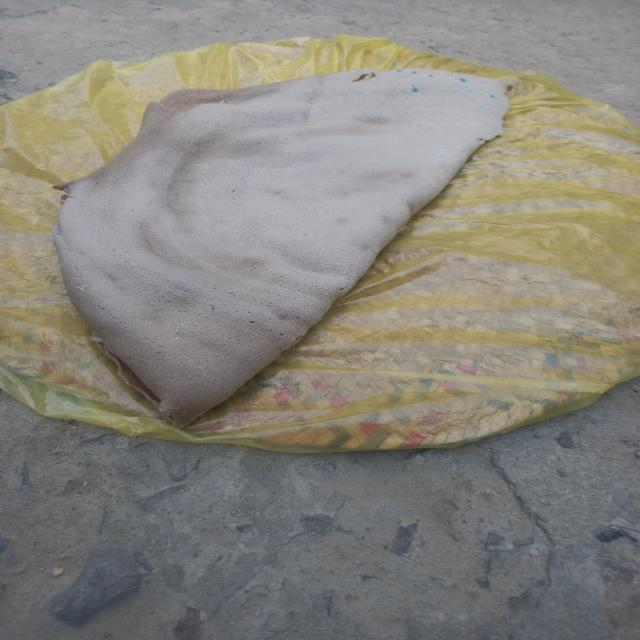injera_mold: (280, 135, 292, 142), (77, 284, 85, 292), (411, 87, 420, 93), (459, 78, 468, 83), (489, 94, 496, 99), (302, 232, 310, 236), (82, 276, 88, 280), (411, 71, 418, 74), (180, 323, 185, 327), (449, 71, 455, 74), (395, 70, 403, 72), (428, 75, 435, 77), (176, 326, 180, 329), (479, 82, 484, 84), (175, 329, 178, 332), (172, 339, 175, 342), (412, 84, 415, 87), (194, 322, 198, 324), (188, 321, 192, 323), (468, 90, 472, 92), (167, 324, 170, 326), (176, 337, 178, 340), (226, 99, 229, 101), (219, 102, 222, 104), (223, 98, 225, 100), (222, 100, 224, 102), (164, 328, 167, 329)
